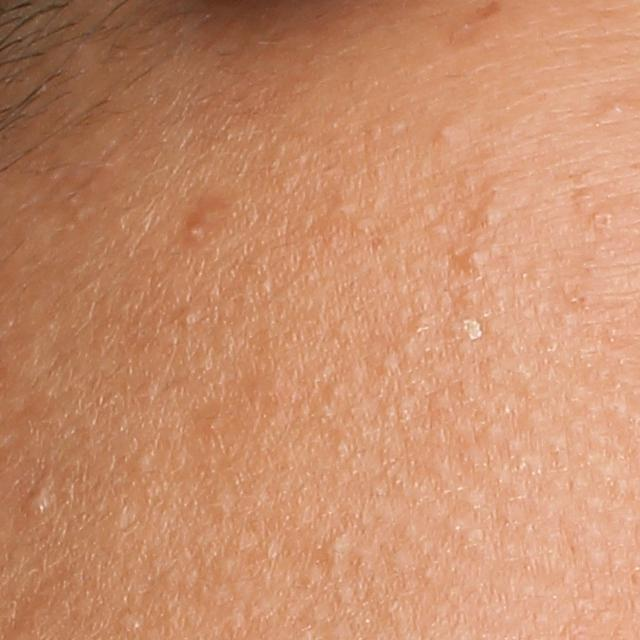comedo: (318, 530, 356, 567), (25, 487, 56, 522), (600, 97, 632, 122), (473, 202, 504, 225), (375, 352, 399, 380), (590, 206, 615, 231), (325, 202, 356, 221), (132, 450, 159, 471), (435, 121, 460, 142), (465, 248, 485, 269), (326, 380, 346, 401), (180, 309, 199, 328)
papule: (186, 221, 206, 241)
